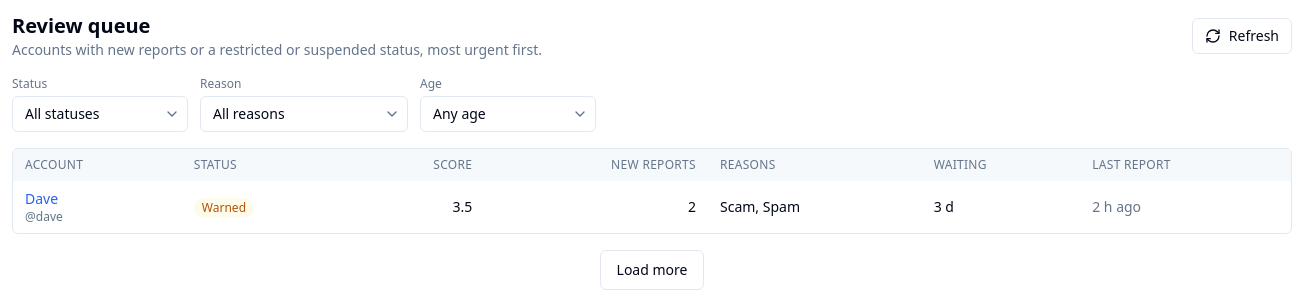
Test: QueuePage › loads the next page with the cursor
Click the button "Load more" at (652, 270), box x1=600 y1=250 x2=704 y2=290
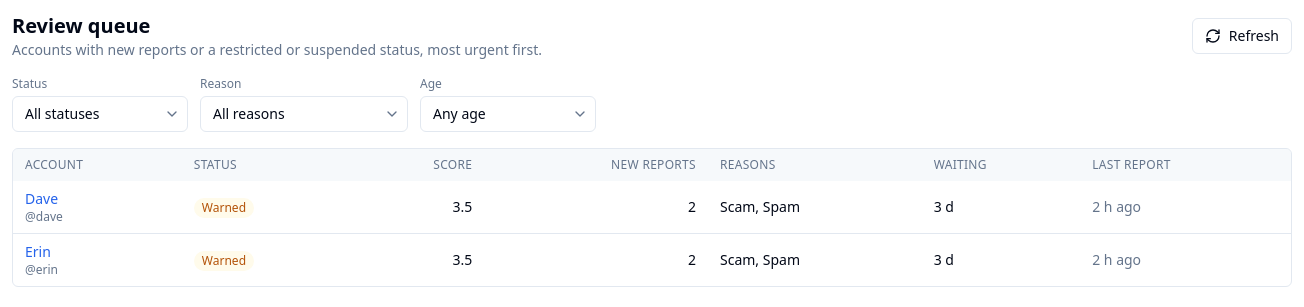
Check: the link "Dave" is shown, box x1=25 y1=189 x2=58 y2=208
Check: the link "Erin" is shown, box x1=25 y1=242 x2=51 y2=261
Check: the button "Load more" is gone
